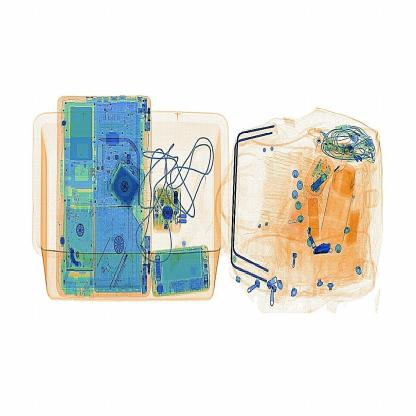knife: (310, 240, 335, 258)
